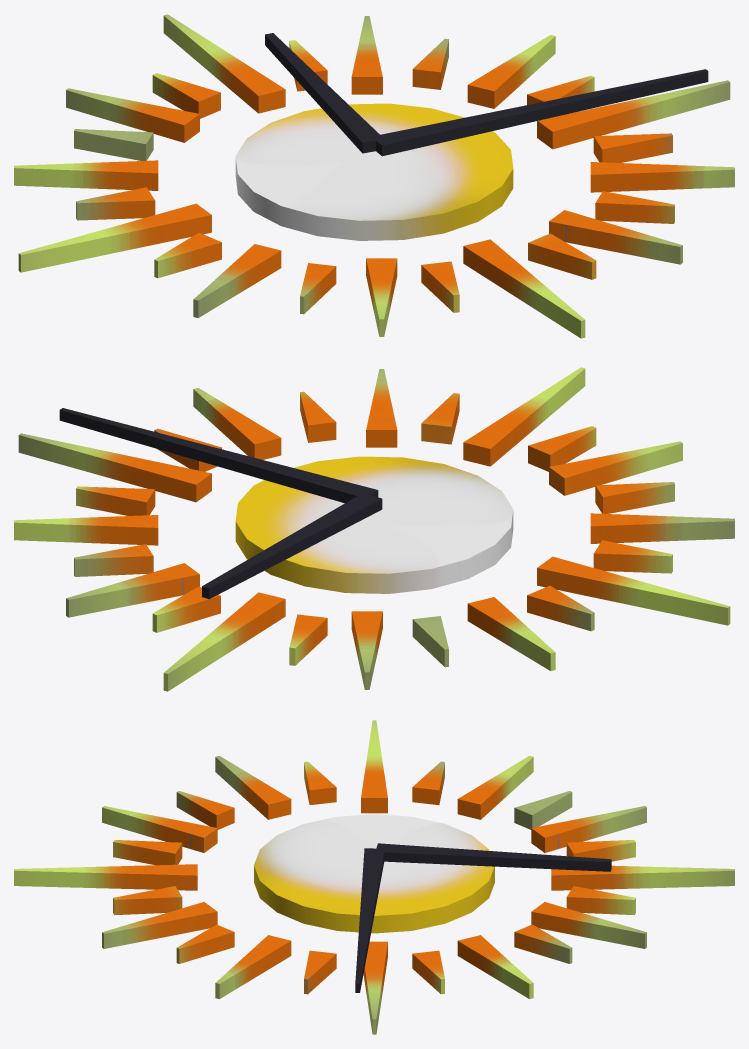
Rendered from sunClock.fbx.
The picture shows the model from 3 angles, top to bottom: view 1: azimuth 30°, elevation 25°; view 2: azimuth 150°, elevation 25°; view 3: azimuth 270°, elevation 25°; orthographic projection. The views are drawn at different scales.
Visible parts, largest first — view 1: pCube2, Base, MinuteHand, HourHand; view 2: pCube2, Base, MinuteHand, HourHand; view 3: pCube2, Base, HourHand, MinuteHand.
Boxes of the visible parts, x1,y1,x2,y2 form: pCube2: [14, 14, 734, 338]; Base: [235, 103, 513, 240]; MinuteHand: [376, 69, 708, 156]; HourHand: [265, 33, 383, 153]; pCube2: [14, 367, 734, 691]; Base: [235, 456, 513, 593]; MinuteHand: [59, 408, 378, 503]; HourHand: [202, 495, 382, 599]; pCube2: [14, 720, 734, 1034]; Base: [254, 814, 494, 933]; HourHand: [375, 843, 611, 871]; MinuteHand: [355, 848, 384, 992].
Size of the model in its own units: 13.24 by 0.7821 by 13.5.
3 materials, 2 textured.
